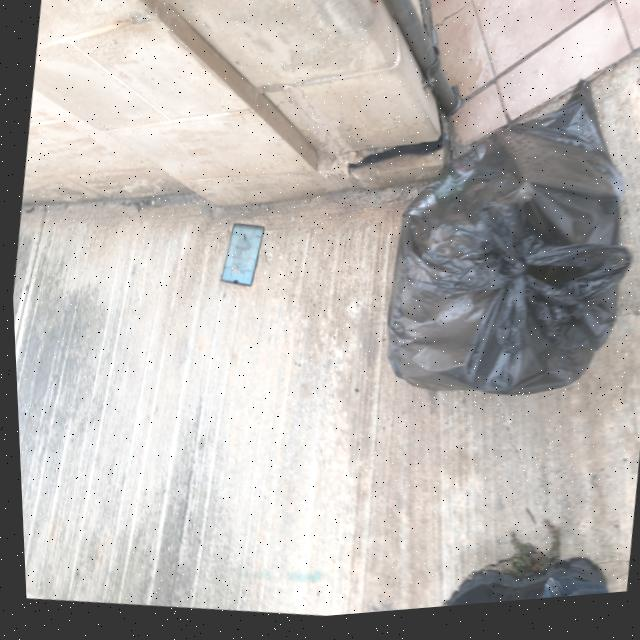Mixed Waste -Black Bag-: (369, 61, 640, 429)
